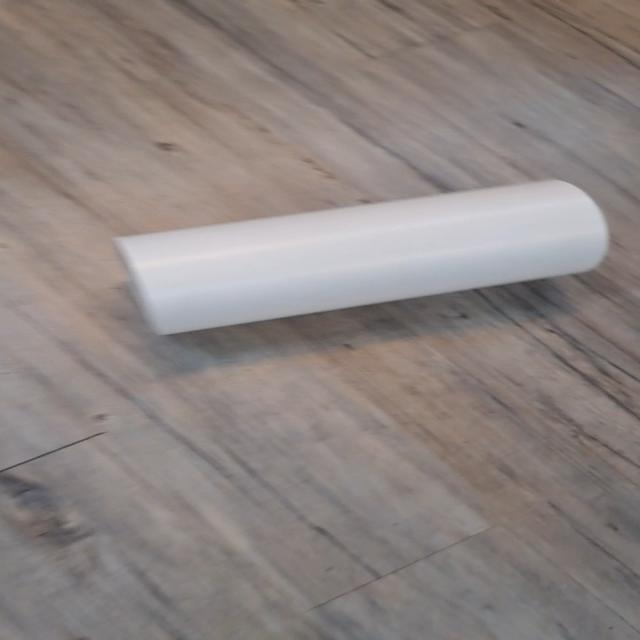CORAL: (107, 164, 613, 352)
